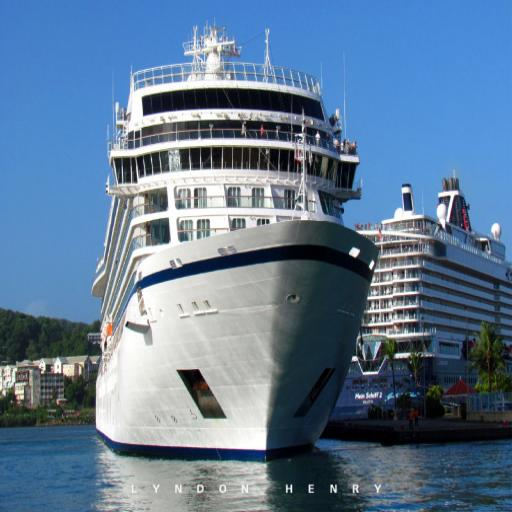cruises: (89, 28, 374, 465), (346, 171, 512, 392)
